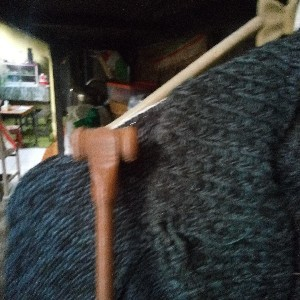palu: (69, 124, 138, 300)
